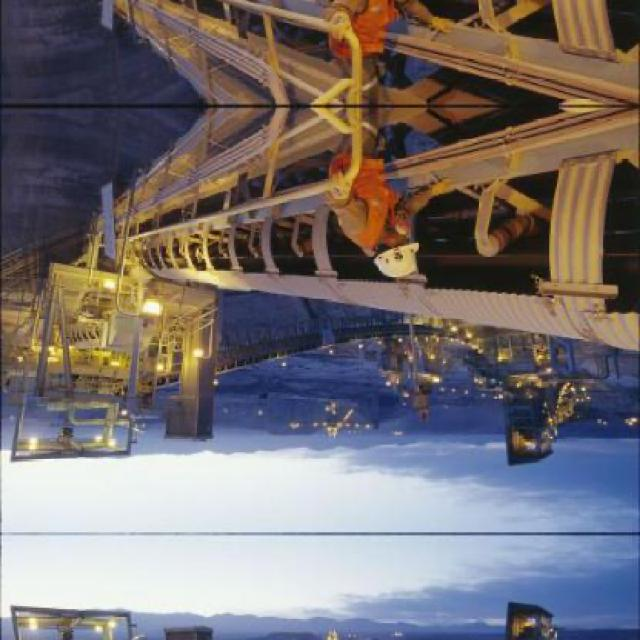con casco: (308, 212, 486, 293)
